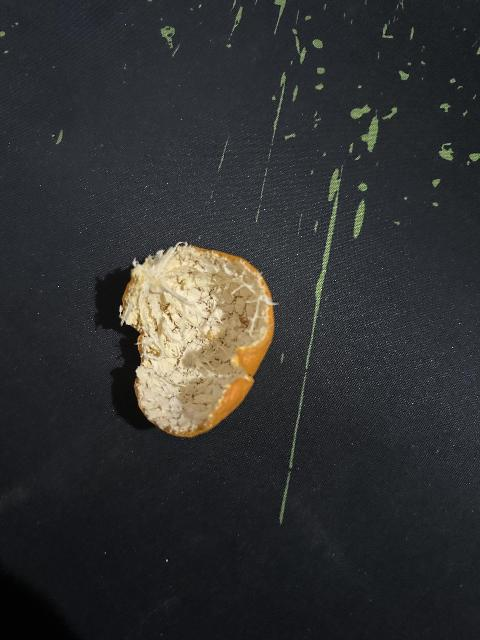Organik: (117, 235, 283, 441)
